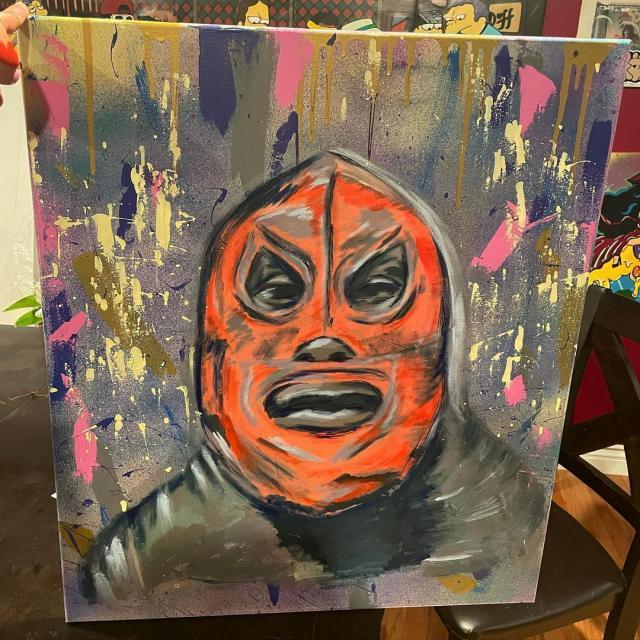-: (80, 149, 550, 608)
